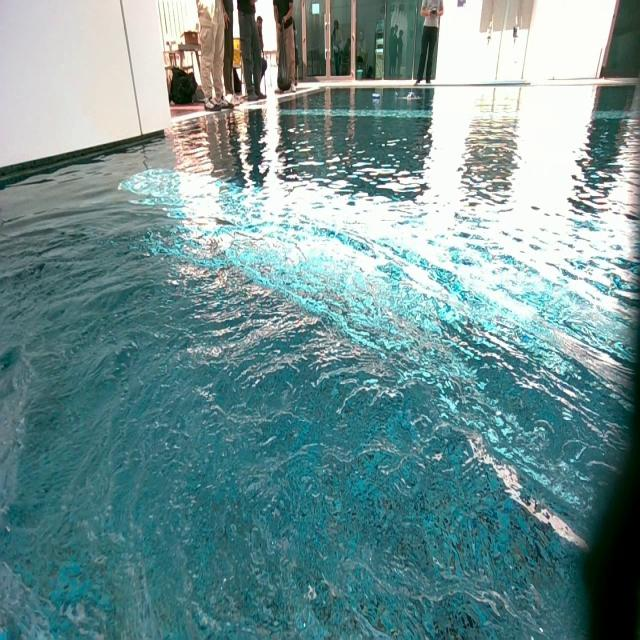Cans: (370, 95, 379, 104), (374, 95, 382, 104), (408, 91, 415, 100), (394, 92, 398, 98)
